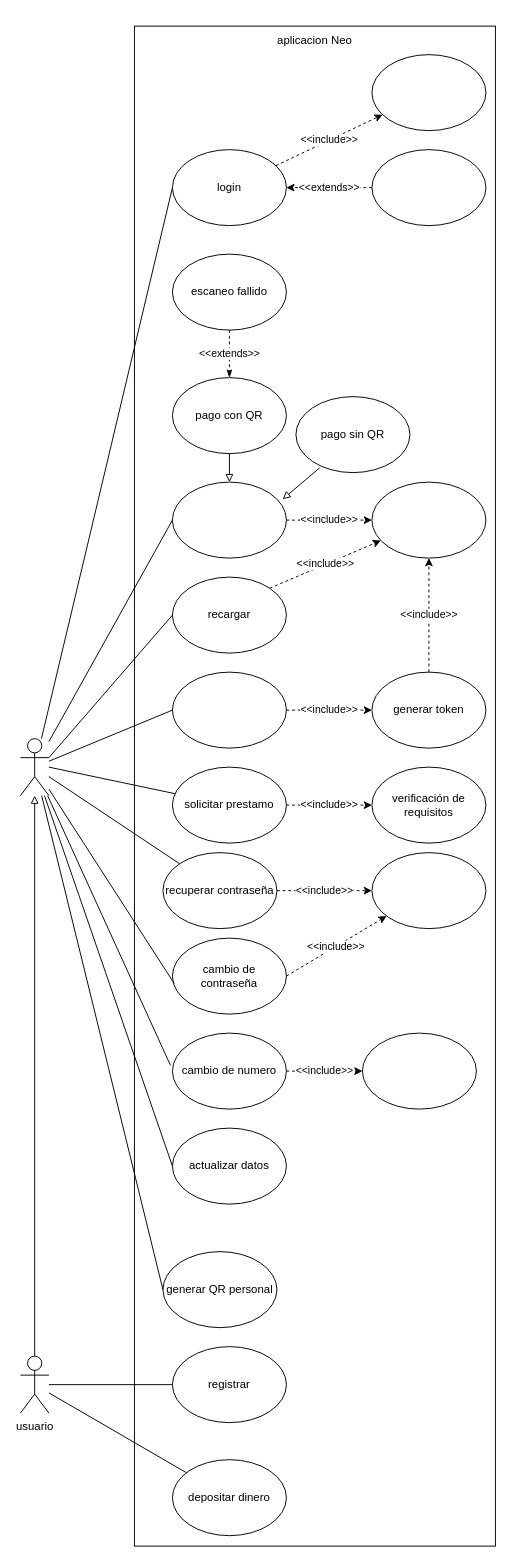
The diagram is 512 pixels wide and 1563 high, and some of its shapes have lost their labels. The centre of each missing label's shape, as x and y in pixels:
cliente: the point at 34,767
Mensaje de error: the point at 428,187
retirar dinero: the point at 228,709
transferir dinero: the point at 228,519
validar identidad: the point at 428,92
verificación biométrica o en 2 pasos: the point at 428,890
verificación en 2 pasos con el nuevo número: the point at 418,1070
verificar saldo: the point at 428,519
